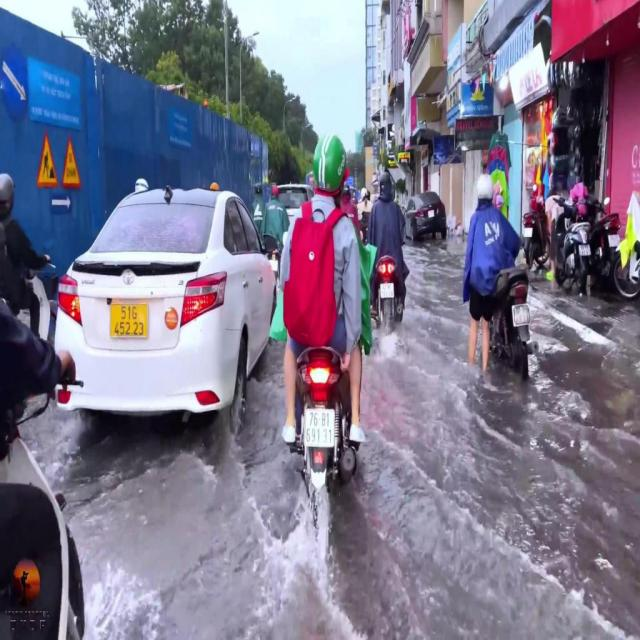cong_truong: (37, 132, 58, 186)
di_cham: (62, 137, 81, 186)
huong_phai_di_vuot_chuong_ngai_vat_phai: (2, 47, 28, 116)
khac: (51, 195, 72, 215)
